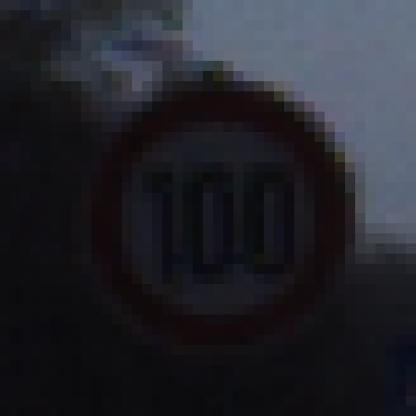Speed Limit 100: (95, 84, 349, 347)
